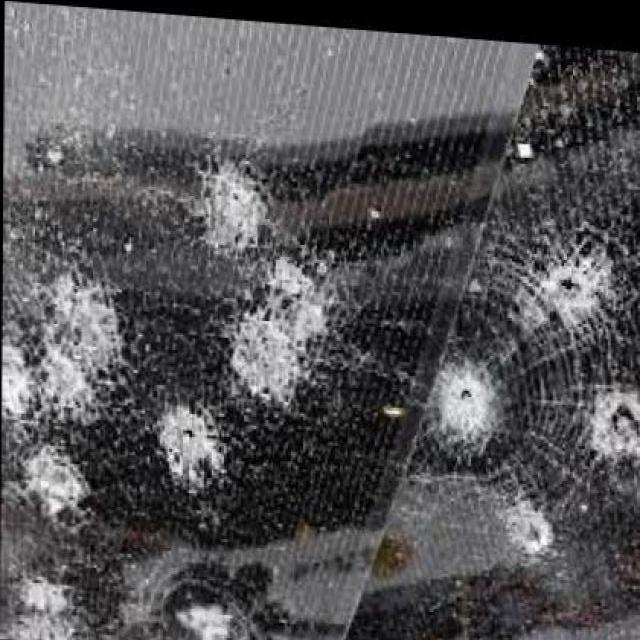cracked: (2, 27, 636, 638)
